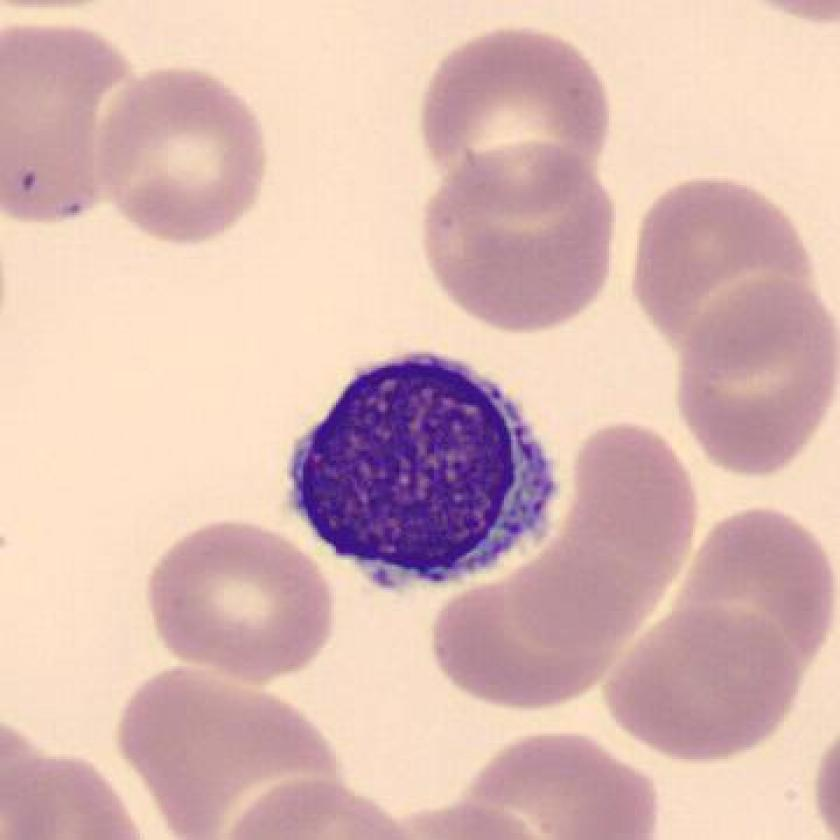lymphocyte: (274, 344, 570, 608)
